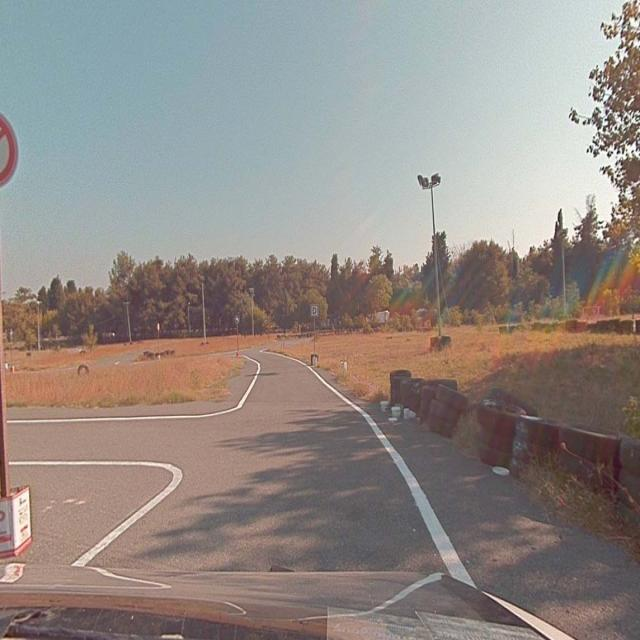durak: (311, 305, 317, 315)
